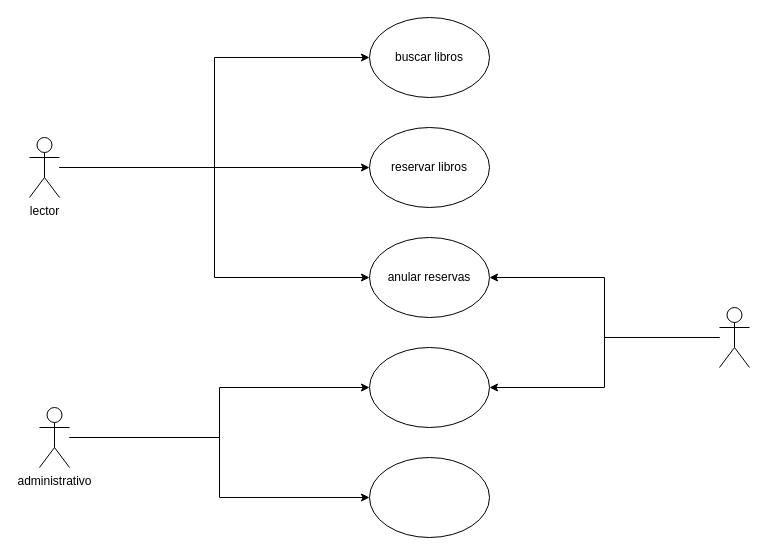
The diagram is 783 pixels wide and 555 high, and some of its shapes have lost their labels. The shapes that lost their labels are listed below. From the top down, each one's centre as x and y in pixels, then its label:
the point at 734,337: bibliotecario
the point at 429,387: insertar libros
the point at 429,497: dar de baja libros
